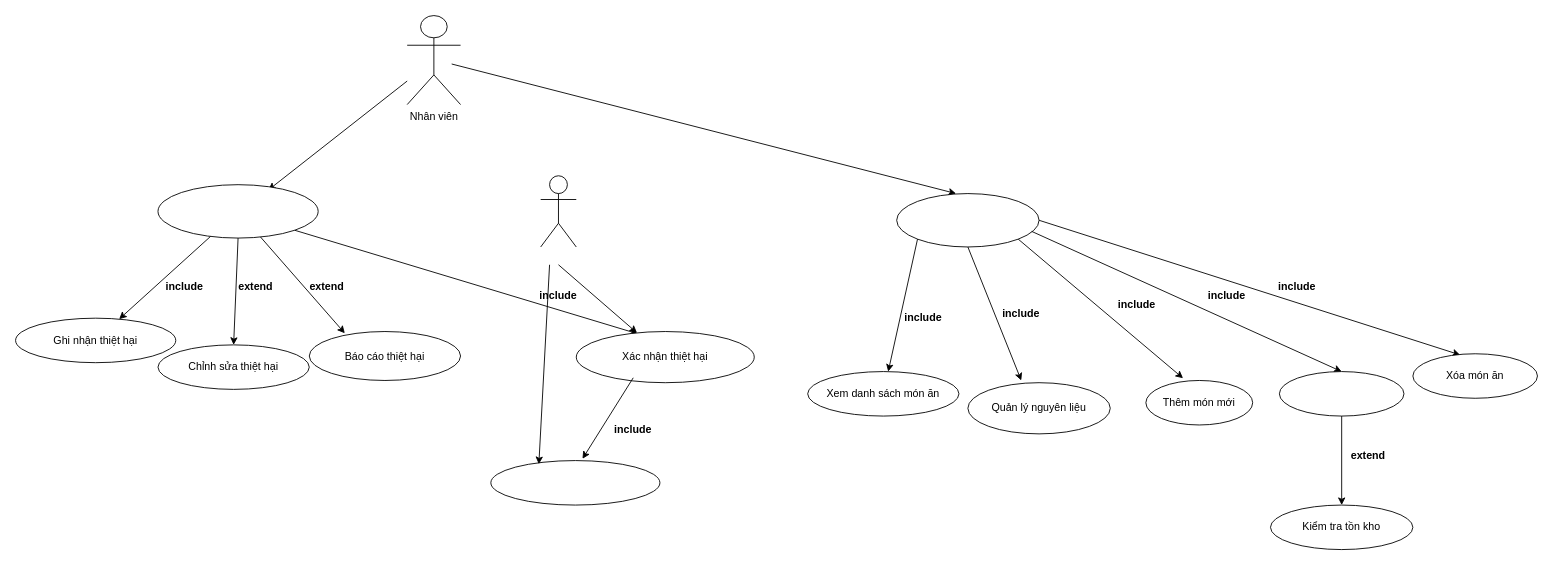
This 1553x565 diagram has some shape labels left out. The shapes that lost their labels are listed below. From the top down, each one's centre as x and y in pixels, then its label:
pixel 237 211: Quản lý thiệt hại tài sản
pixel 558 211: Khách hàng
pixel 967 220: Quản lý thực đơn
pixel 1341 393: Chỉnh sửa món ăn
pixel 575 482: Thanh toán bồi thường
